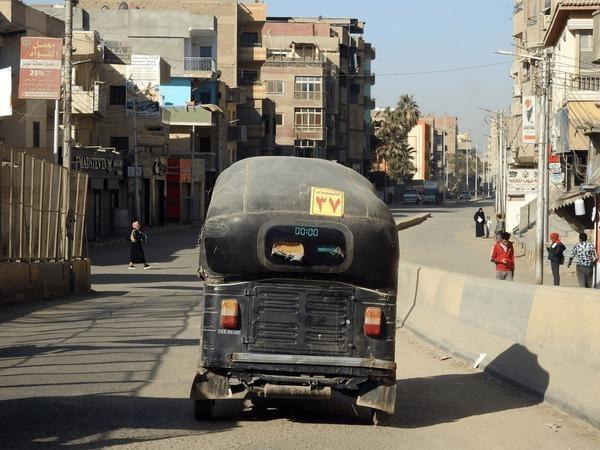keke: (188, 152, 399, 426)
